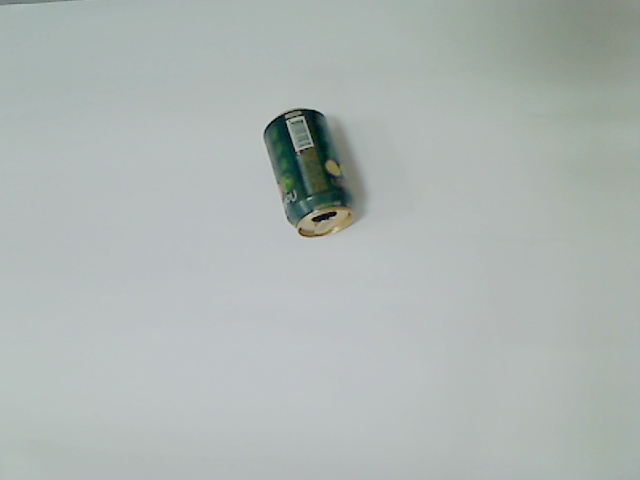can: (261, 106, 356, 240)
